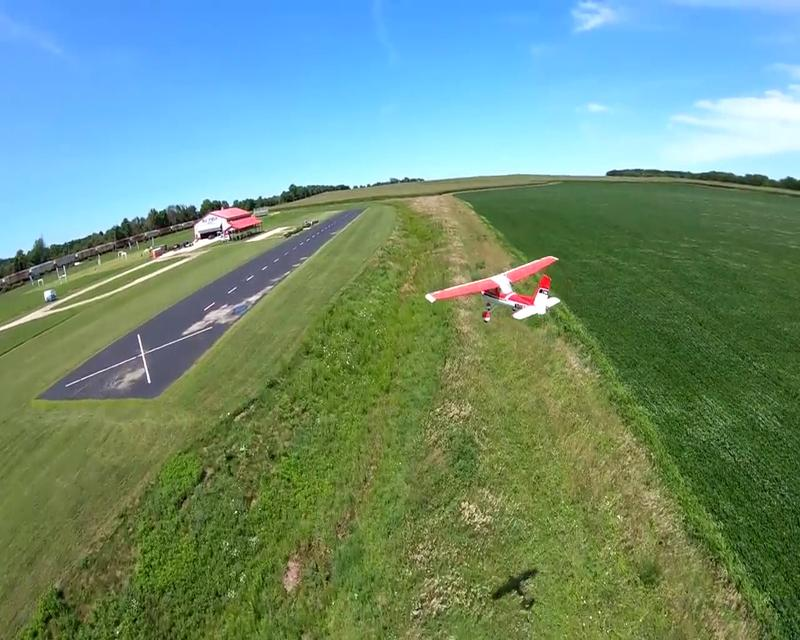UAV: (424, 256, 561, 323)
